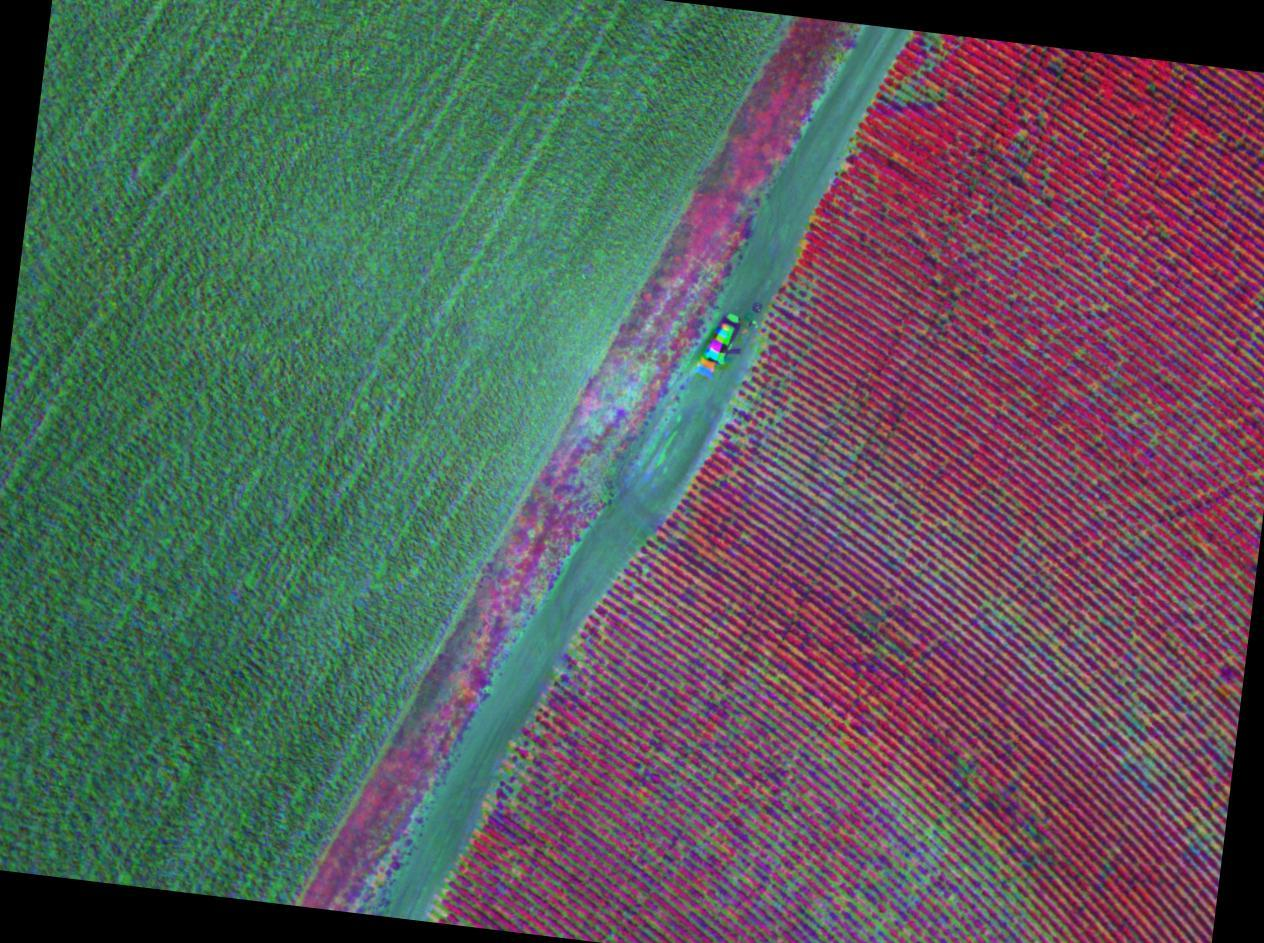dc: (440, 908, 445, 913), (1128, 729, 1132, 734), (1206, 835, 1211, 839), (1028, 342, 1032, 346), (1022, 538, 1026, 542), (917, 72, 921, 76), (514, 866, 518, 870), (774, 678, 778, 681), (1010, 897, 1013, 900)
